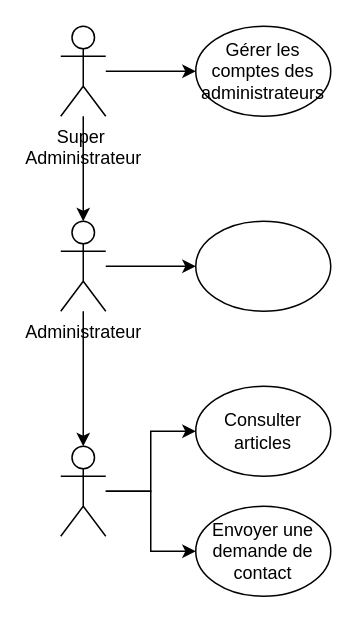
Image size: 357x623. Some labels were removed from this diagram. The shapes that lost their labels are listed below. From the top down, each one's centre as x and y in pixels, then its label:
(x=262, y=265): Consulter les demandes de contact
(x=82, y=490): Visiteur
